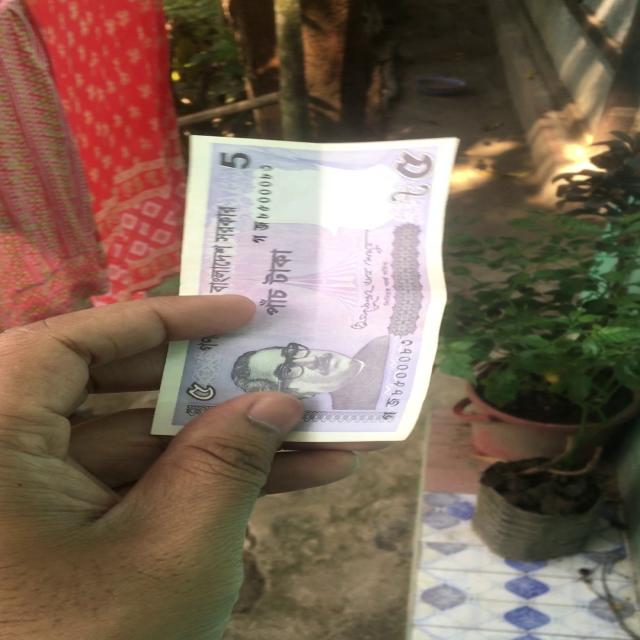Taka: (172, 130, 468, 443)
